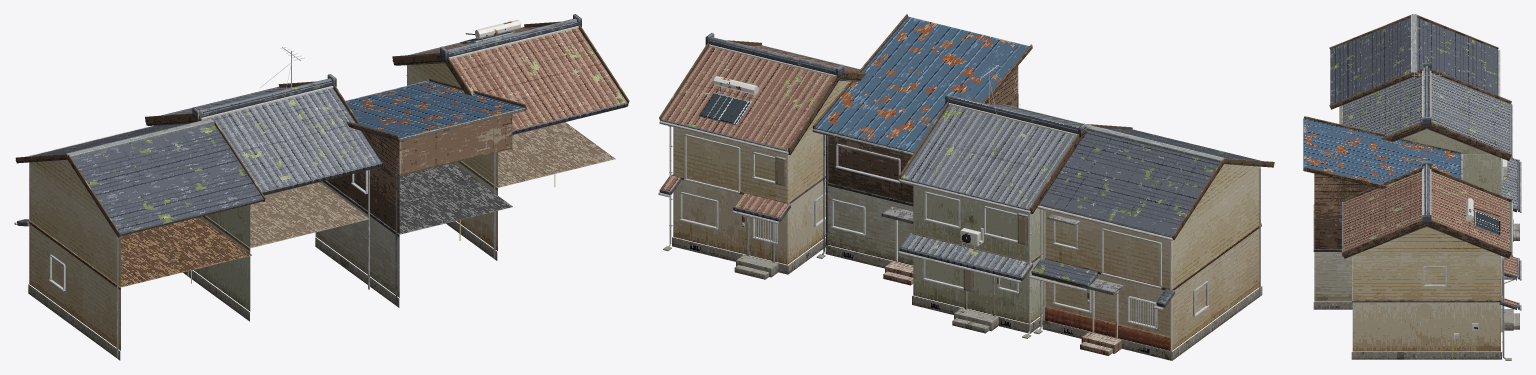
Rendered from lane_fe.glb.
3 renders of one model, left to right at view 1: azimuth 30°, elevation 25°; view 2: azimuth 150°, elevation 25°; view 3: azimuth 270°, elevation 25°, orthographic. The views are drawn at different scales.
Parts seen in each view (by area): view 1: lane_fe; view 2: lane_fe; view 3: lane_fe.
Part boxes in pixels (<box>): lane_fe: <box>14,14,629,360</box>; lane_fe: <box>658,14,1274,360</box>; lane_fe: <box>1303,14,1521,360</box>.
Bounding box in the file's own units: 23.08 × 9.17 × 10.31.
Materials: 1 (1 with a texture image).
